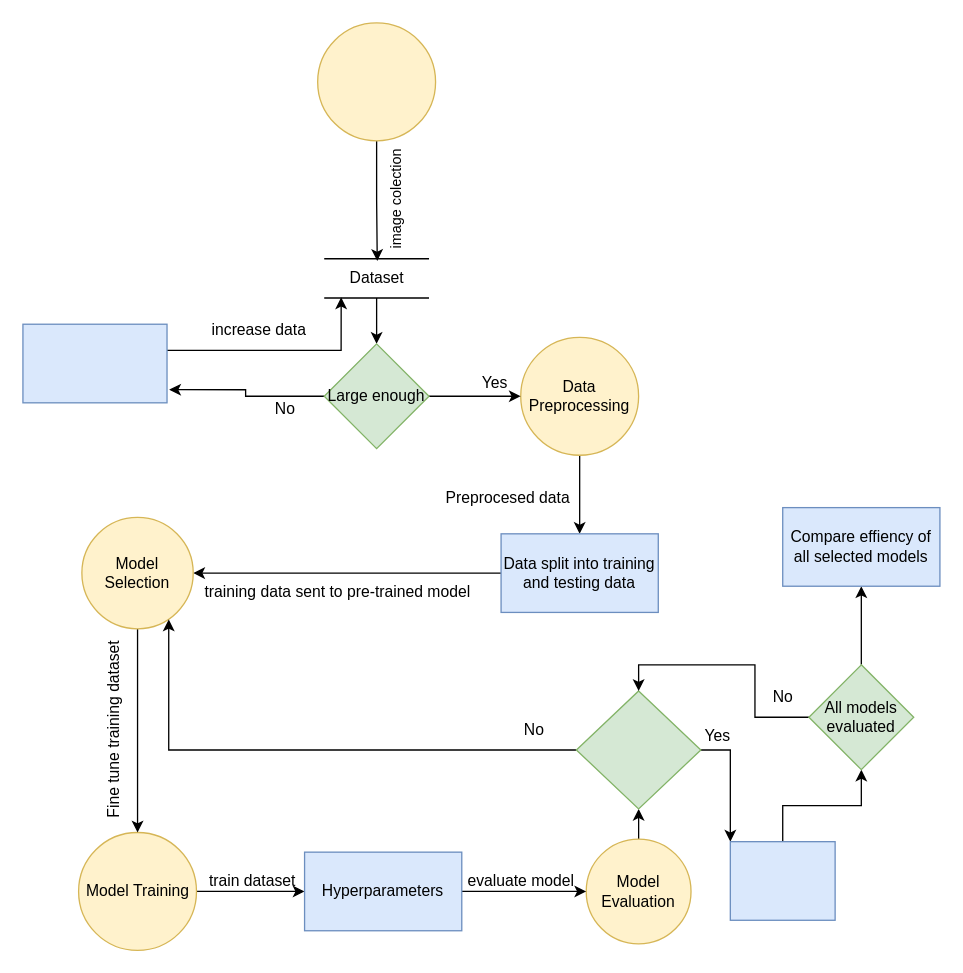
This 963x973 diagram has some shape labels left out. The centre of each missing label's shape, as x and y in pixels:
Add model to selected model: pixel 782 880
Data Augmentation: pixel 94 363
Data Preparation: pixel 376 81
Performance Satisfactory: pixel 638 749
